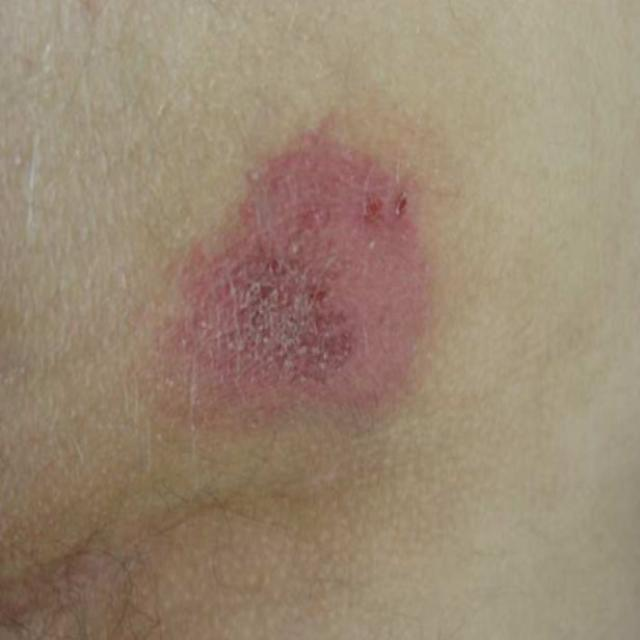stage-1: (165, 136, 432, 420)
